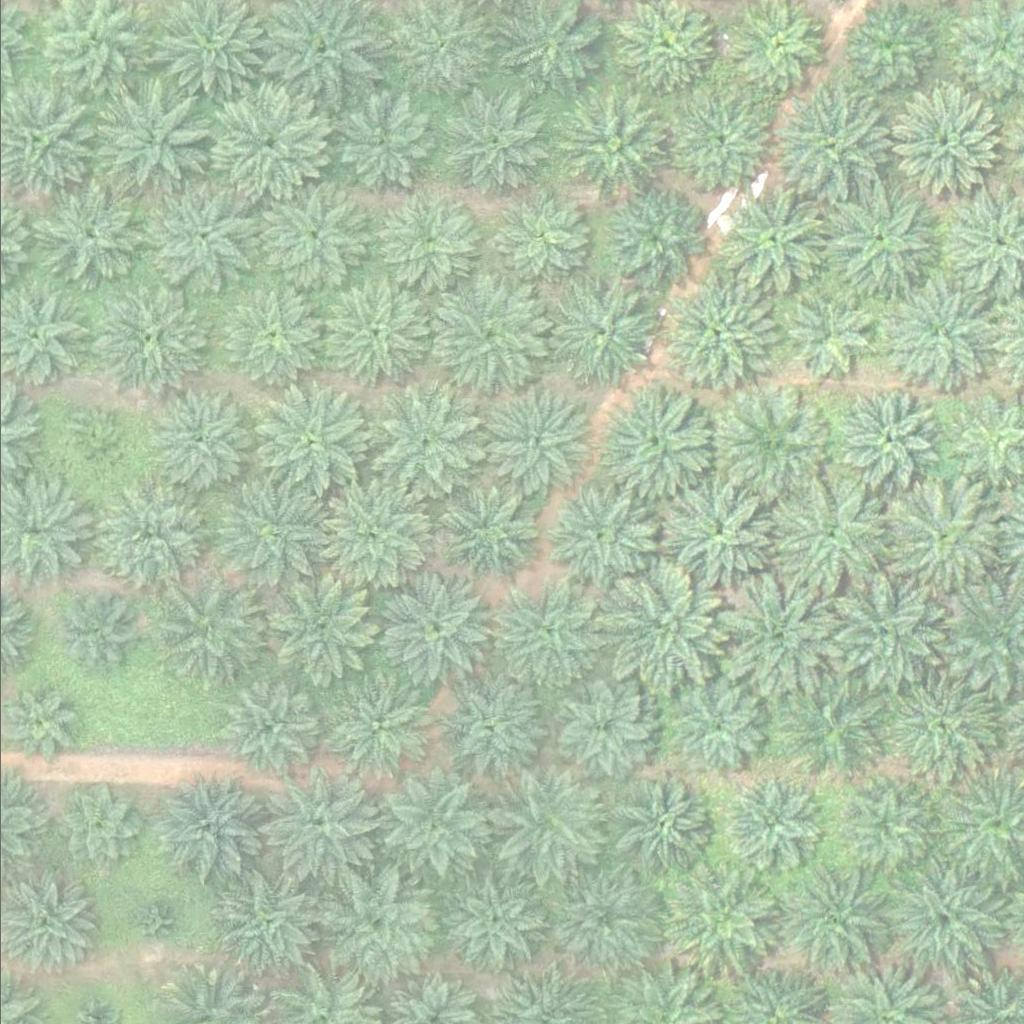Kelapa_Sawit: (779, 865, 893, 978), (94, 480, 208, 593), (253, 386, 367, 499), (884, 88, 997, 201), (825, 184, 938, 297), (720, 185, 833, 298), (660, 279, 773, 392), (601, 389, 714, 502), (885, 480, 998, 593), (826, 575, 939, 688), (720, 577, 833, 690), (605, 571, 718, 684), (887, 866, 1000, 979), (374, 770, 487, 883), (261, 770, 374, 883), (146, 773, 259, 886), (325, 668, 438, 781), (314, 484, 427, 597), (219, 478, 332, 591), (479, 385, 592, 498), (363, 389, 476, 502), (544, 276, 657, 389), (430, 281, 543, 394), (211, 88, 324, 201), (99, 85, 212, 198), (558, 86, 672, 198), (886, 676, 1000, 788), (654, 866, 768, 978), (315, 282, 429, 394), (434, 85, 548, 197), (771, 86, 884, 198), (661, 84, 774, 196), (878, 276, 991, 388), (715, 388, 828, 500), (773, 482, 886, 594), (667, 480, 780, 592), (772, 673, 885, 785), (546, 862, 659, 974), (321, 862, 434, 974), (214, 866, 327, 978), (492, 765, 605, 877), (488, 577, 601, 689), (377, 574, 490, 686), (265, 579, 378, 691), (158, 578, 271, 690), (543, 484, 656, 596), (90, 284, 203, 396), (253, 183, 366, 295), (143, 187, 256, 299), (34, 181, 147, 293), (840, 3, 941, 103), (605, 187, 706, 287), (772, 287, 873, 387), (839, 387, 940, 487), (667, 677, 768, 777), (548, 679, 649, 779), (606, 779, 707, 879), (441, 873, 542, 973), (444, 679, 545, 779), (217, 680, 318, 780), (438, 489, 539, 589), (726, 1, 826, 101), (720, 774, 820, 874), (150, 394, 250, 494), (219, 287, 319, 387), (487, 188, 587, 288), (373, 193, 473, 293), (329, 96, 429, 196), (835, 780, 923, 868), (50, 785, 138, 872), (52, 598, 128, 673), (2, 684, 77, 759), (62, 415, 125, 477), (129, 900, 180, 950)
